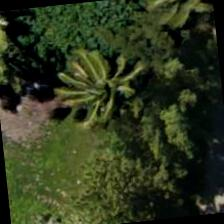Kelapa_Sawit: (54, 34, 152, 134), (133, 0, 218, 48)
